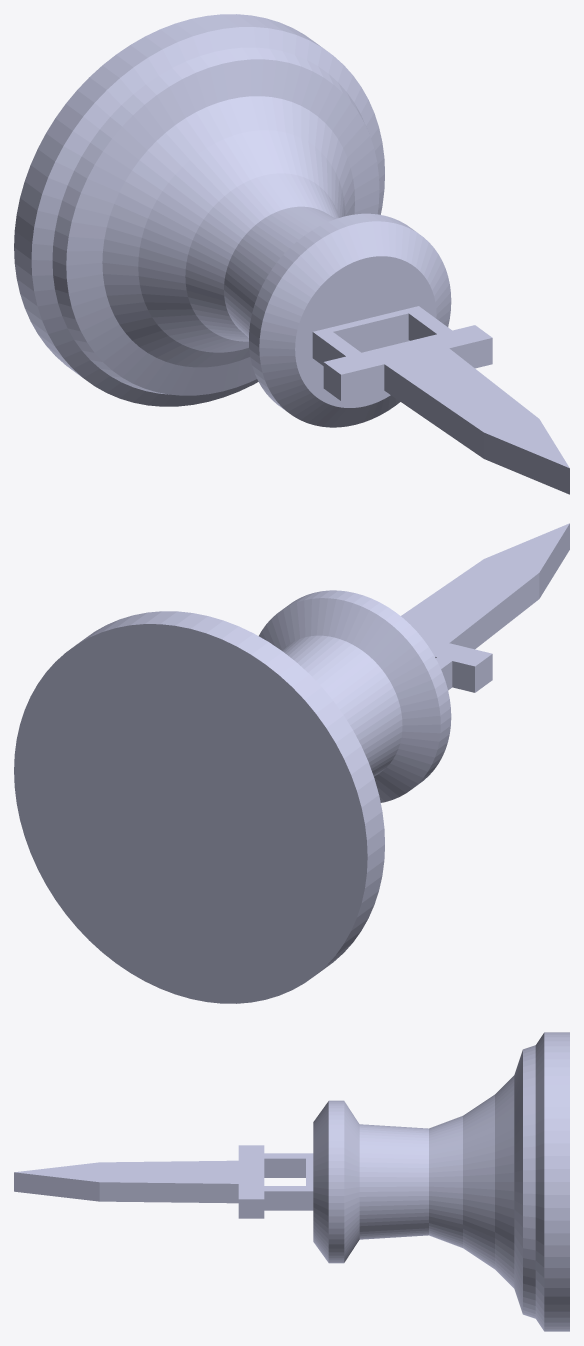
The model's file is chara_chandra.glb.
The picture shows the model from 3 angles, top to bottom: view 1: azimuth 30°, elevation 25°; view 2: azimuth 150°, elevation 25°; view 3: azimuth 270°, elevation 25°; orthographic projection. The views are drawn at different scales.
Visible parts, largest first — view 1: geometry_0; view 2: geometry_0; view 3: geometry_0.
Boxes of the visible parts, x1,y1,x2,y2 form: geometry_0: (14,14,569,494); geometry_0: (14,523,569,1003); geometry_0: (14,1032,569,1331).
Bounding box in the file's own units: 0.028 × 0.028 × 0.052.
